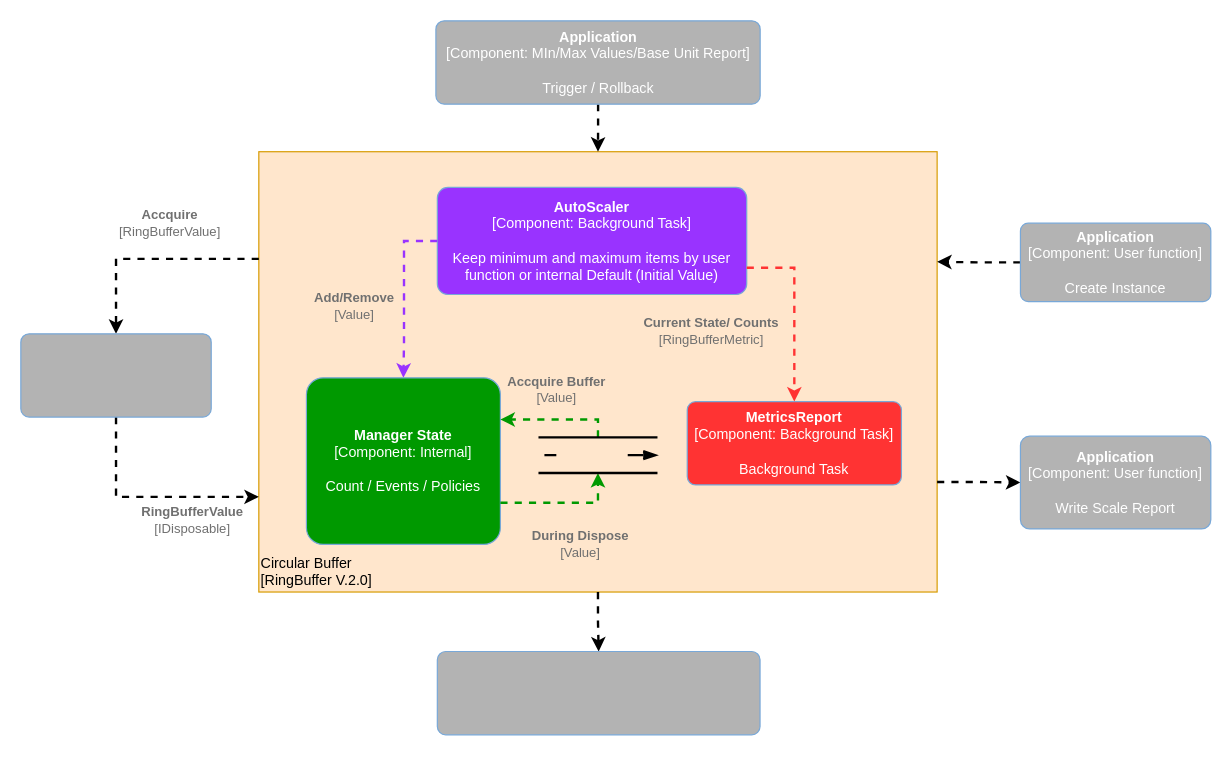
Some shapes in this 1232 by 757 pixel diagram are drawn without their labels. The shapes that lost their labels are listed below. From the top down, each one's centre as x and y in pixels, then its label:
At point 115,375: "Application [Component: .net] Accquire".
At point 597,455: "FIFO".
At point 598,692: "Application [Component: RingBufferException] Error Write Errors".
